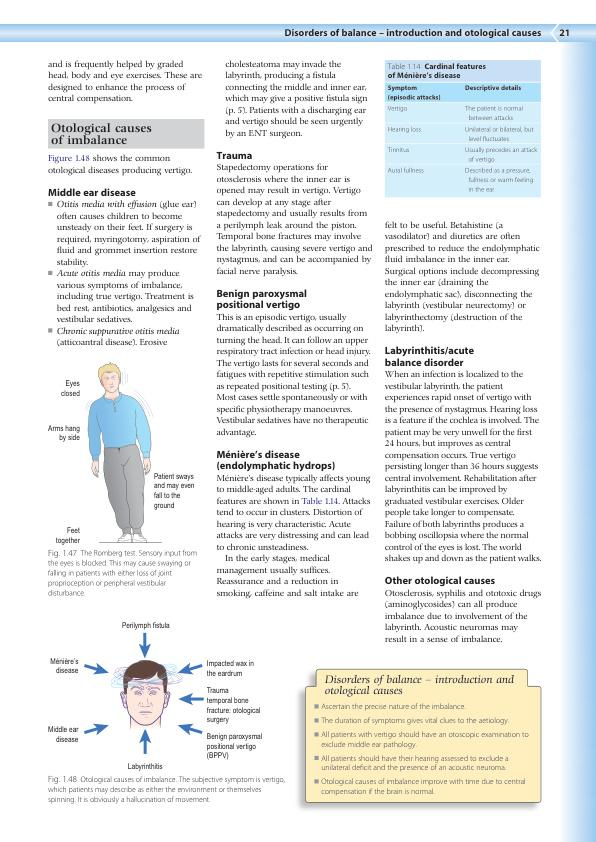caption: (46, 548, 199, 598), (47, 774, 286, 805), (324, 674, 516, 698), (387, 62, 487, 79)
header: (283, 28, 543, 39)
image: (44, 617, 268, 772), (46, 354, 199, 547)
list: (46, 199, 203, 348), (311, 701, 532, 796)
section-heading: (50, 122, 152, 145)
sub-section-heading: (216, 449, 336, 472), (216, 288, 308, 312), (383, 345, 475, 367), (384, 575, 496, 587), (47, 187, 137, 197), (215, 151, 253, 160)
table: (385, 82, 541, 198)
text: (384, 369, 543, 565), (215, 313, 372, 439), (216, 473, 371, 599), (383, 219, 542, 335), (215, 163, 374, 278), (223, 57, 369, 139), (383, 588, 544, 644), (47, 59, 203, 105), (48, 153, 193, 177)
